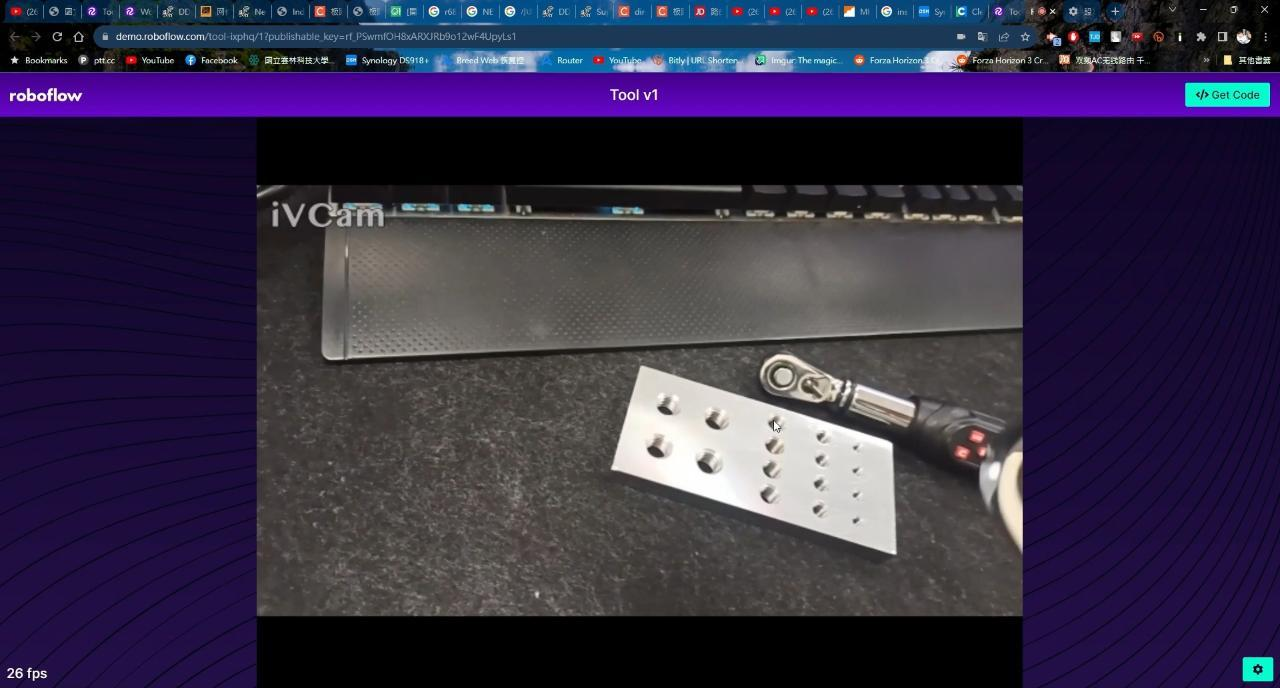Tool: (756, 346, 842, 406)
hole: (628, 429, 674, 458), (686, 445, 727, 473), (648, 390, 686, 414), (697, 404, 734, 428), (751, 485, 784, 505), (760, 414, 790, 431), (759, 438, 787, 456), (758, 461, 786, 478), (806, 504, 833, 519), (808, 479, 833, 493), (812, 431, 837, 445), (811, 454, 834, 467), (846, 489, 867, 500), (846, 514, 867, 525), (848, 466, 866, 476), (852, 442, 864, 457)
